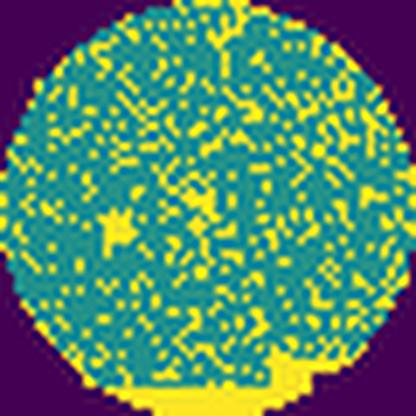Edge-Loc: (91, 336, 366, 416)
